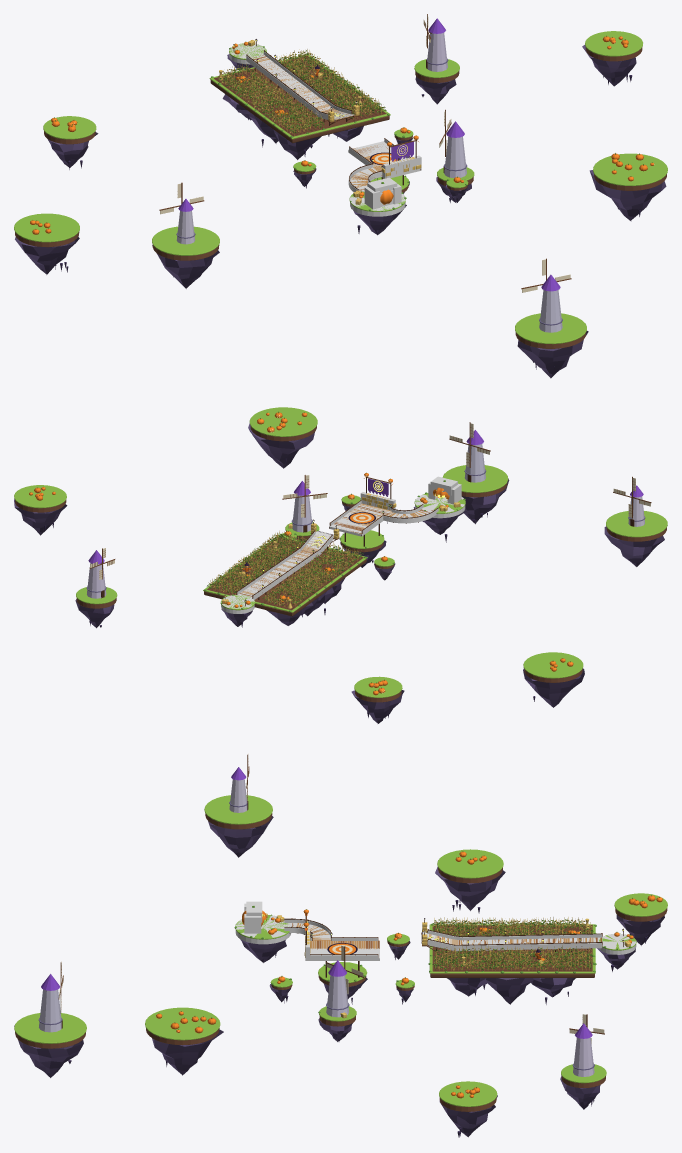
The picture shows the model from 3 angles, top to bottom: view 1: azimuth 30°, elevation 25°; view 2: azimuth 150°, elevation 25°; view 3: azimuth 270°, elevation 25°; orthographic projection. The views are drawn at different scales.
Visible parts, largest first — view 1: V_grass, V_rock, V_dirt, C_0, V_hay, V_leaf, V_stone_light, V_corn, V_pumpkin, V_cloth_purple, C_3, V_plank (+2 smaller); view 2: V_grass, V_rock, V_dirt, C_0, V_hay, V_leaf, V_corn, V_stone_light, V_pumpkin, V_beam_dark, V_cloth_purple, C_1 (+2 smaller); view 3: V_grass, V_rock, V_dirt, C_0, V_stone_light, V_hay, V_leaf, V_corn, V_pumpkin, V_beam_dark, V_plank, V_cloth_purple (+2 smaller).
Boxes of the visible parts, <box> form: V_grass: <box>14,31,667,344</box>; V_rock: <box>15,45,666,378</box>; V_dirt: <box>15,47,666,348</box>; C_0: <box>229,43,409,216</box>; V_hay: <box>218,40,421,204</box>; V_leaf: <box>219,50,386,132</box>; V_stone_light: <box>176,32,562,332</box>; V_corn: <box>219,50,383,135</box>; V_pumpkin: <box>30,36,653,234</box>; V_cloth_purple: <box>178,18,560,291</box>; C_3: <box>364,177,401,209</box>; V_plank: <box>255,57,382,192</box>; V_grass: <box>14,407,667,697</box>; V_rock: <box>14,423,667,723</box>; V_dirt: <box>15,426,666,702</box>; C_0: <box>221,494,465,613</box>; V_hay: <box>208,493,460,608</box>; V_leaf: <box>207,533,363,605</box>; V_corn: <box>209,532,360,607</box>; V_stone_light: <box>87,444,644,598</box>; V_pumpkin: <box>29,412,573,695</box>; V_beam_dark: <box>101,474,634,606</box>; V_cloth_purple: <box>88,430,643,563</box>; C_1: <box>329,504,391,536</box>; V_grass: <box>14,795,667,1106</box>; V_rock: <box>14,816,664,1137</box>; V_dirt: <box>15,813,667,1111</box>; C_0: <box>235,915,636,958</box>; V_stone_light: <box>39,779,594,1076</box>; V_hay: <box>264,913,630,1018</box>; V_leaf: <box>432,919,593,970</box>; V_corn: <box>433,918,590,970</box>; V_pumpkin: <box>156,851,662,1098</box>; V_beam_dark: <box>61,801,623,1028</box>; V_plank: <box>296,923,595,949</box>; V_cloth_purple: <box>41,767,592,1038</box>.
Size of the model in its own units: 155 by 45.28 by 140.
